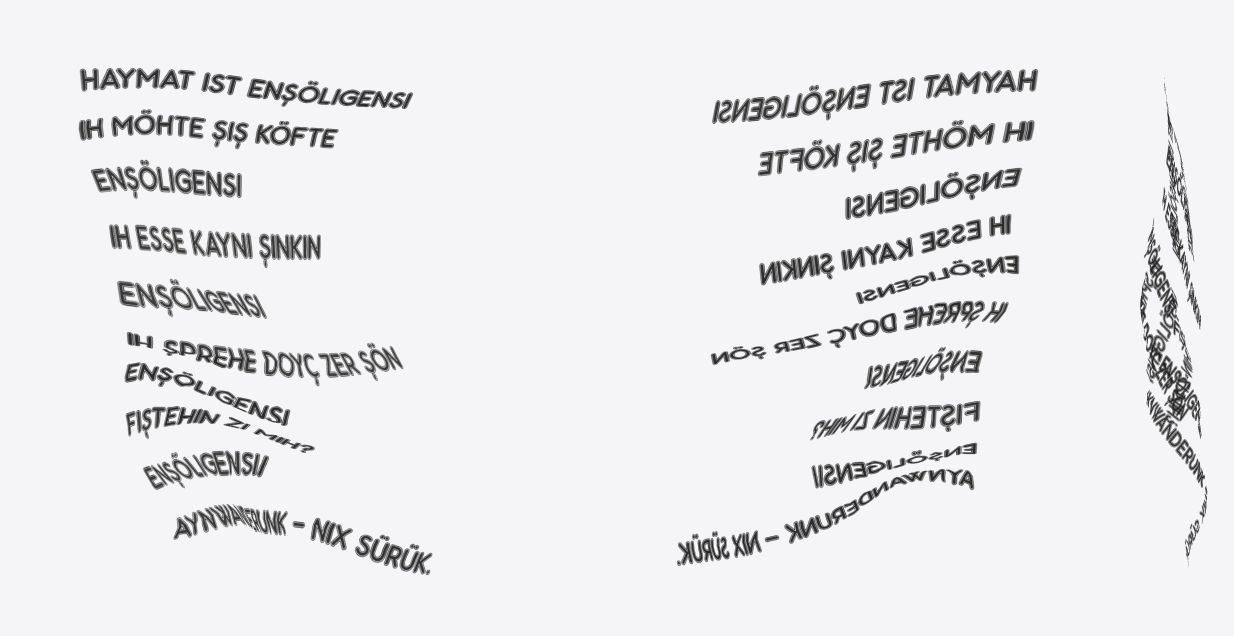
Rendered from friendly-reminder-Flag.glb.
3 views of the same model, side by side, from view 1: azimuth 30°, elevation 25°; view 2: azimuth 150°, elevation 25°; view 3: azimuth 270°, elevation 25° (orthographic). The views are drawn at different scales.
Visible parts, largest first — view 1: flag (Copy); view 2: flag (Copy); view 3: flag (Copy).
Part boxes in pixels (box(x1,y1,x2,y2)): flag (Copy): box(78, 68, 432, 574); flag (Copy): box(677, 69, 1037, 565); flag (Copy): box(1140, 78, 1207, 566).
Bounding box in the file's own units: 5.76 × 7.58 × 1.28.
Materials: 1 (1 with a texture image).
